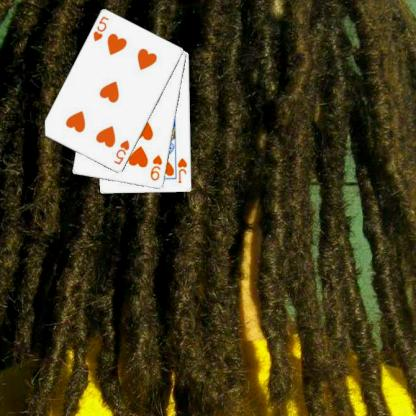5H: (111, 138, 131, 166), (91, 14, 110, 43)
9H: (148, 152, 164, 182)
JH: (175, 156, 188, 184)
